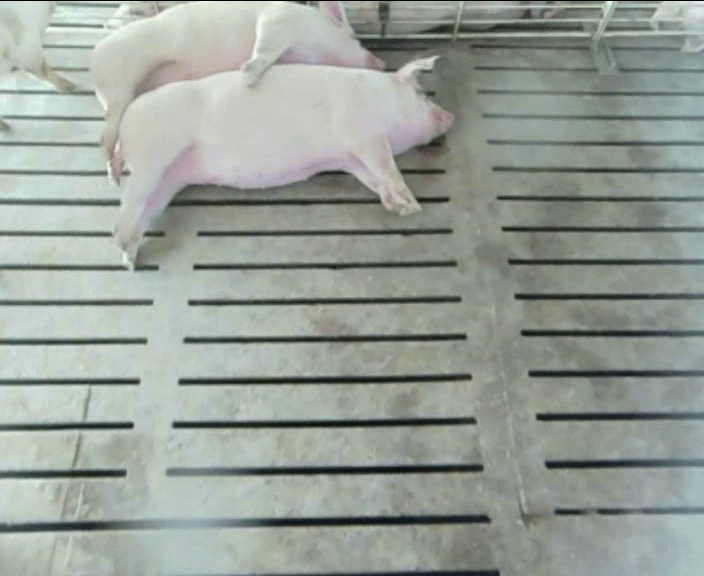pig: (114, 57, 452, 267), (91, 2, 383, 182)
